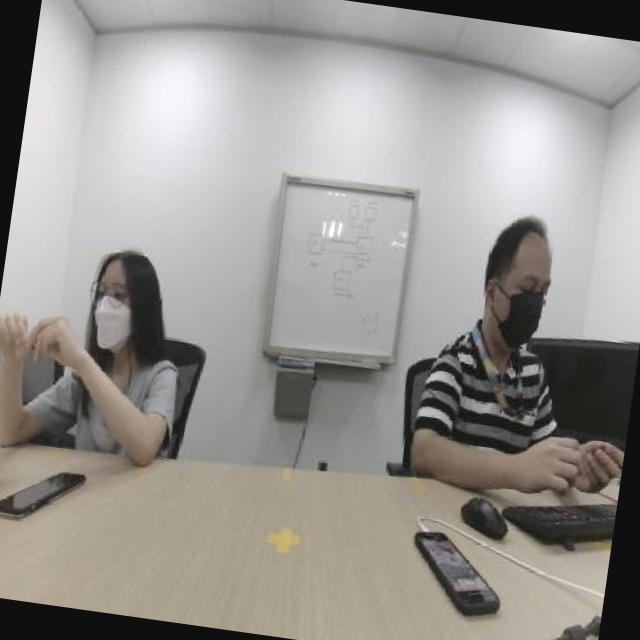Person: (405, 188, 611, 484), (0, 175, 216, 440)
